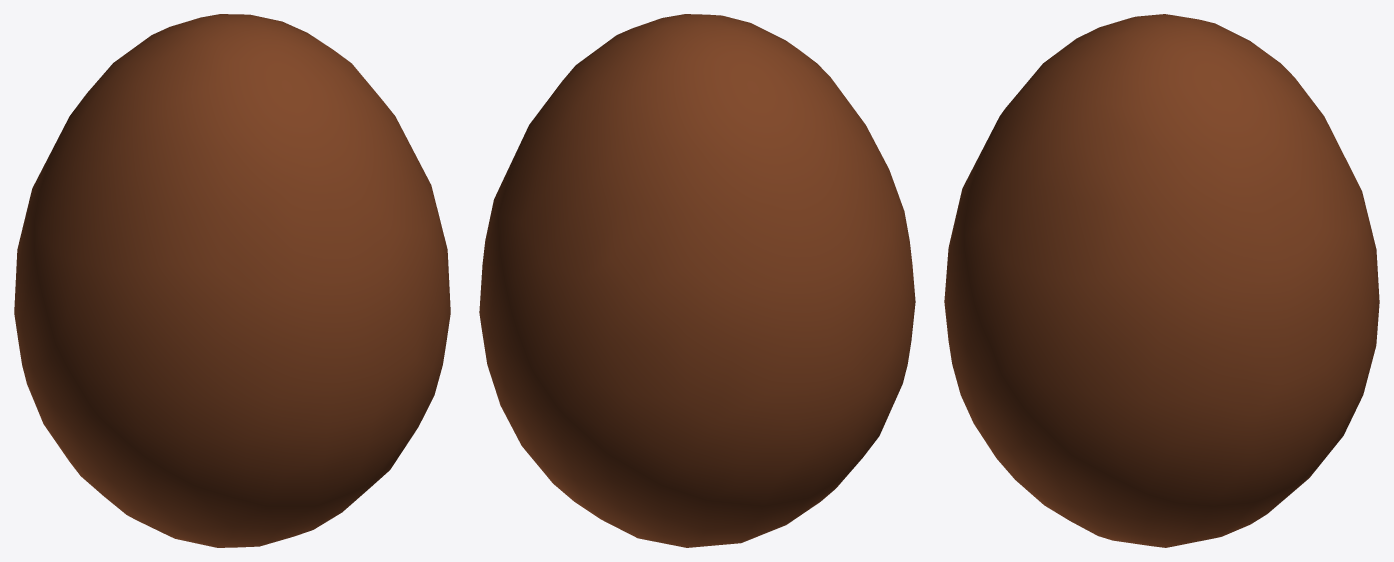
File: Egg_24.obj
3 renders of one model, left to right at view 1: azimuth 30°, elevation 25°; view 2: azimuth 150°, elevation 25°; view 3: azimuth 270°, elevation 25°, orthographic.
Visible parts, largest first — view 1: egg_24; view 2: egg_24; view 3: egg_24.
Boxes of the visible parts, <box> form: egg_24: <box>14,14,450,547</box>; egg_24: <box>479,14,915,547</box>; egg_24: <box>944,14,1379,547</box>.
Size of the model in its own units: 0.0646 by 0.0824 by 0.0646.
